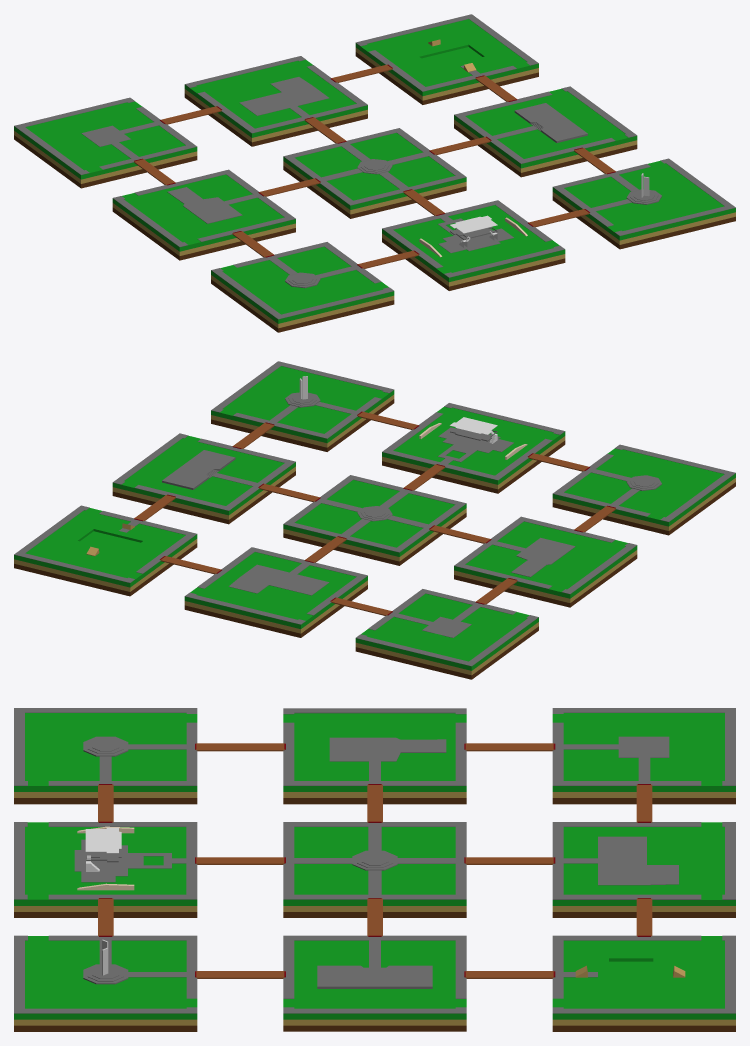
Rendered from Ferriel-Map-HitBox.glb.
3 renders of one model, top to bottom at view 1: azimuth 30°, elevation 25°; view 2: azimuth 150°, elevation 25°; view 3: azimuth 270°, elevation 25°, orthographic. The views are drawn at different scales.
Parts seen in each view (by area): view 1: Plane.029, Plane.036, Plane.035, Plane.034, Plane.001, Plane.014, Plane.005, Plane.016, Plane.009, Plane.017, Plane.010, Cube.021 (+16 smaller); view 2: Plane.029, Plane.036, Plane.034, Plane.035, Plane.001, Plane.014, Plane.016, Plane.005, Plane.009, Plane.017, Plane.010, Cube.021 (+16 smaller); view 3: Plane.029, Plane.035, Plane.036, Plane.034, Plane.001, Plane.014, Plane.005, Plane.009, Plane.016, Plane.017, Plane.010, Cube.021 (+21 smaller).
Boxes of the visible parts, x1,y1,x2,y2 form: Plane.029: (355, 19, 538, 104); Plane.036: (211, 246, 394, 332); Plane.035: (552, 160, 735, 249); Plane.034: (14, 101, 197, 188); Plane.001: (283, 133, 466, 218); Plane.014: (112, 174, 295, 260); Plane.005: (454, 88, 637, 177); Plane.016: (184, 60, 367, 146); Plane.009: (382, 205, 565, 290); Plane.017: (185, 56, 367, 133); Plane.010: (382, 200, 564, 277); Cube.021: (283, 128, 466, 205); Plane.029: (14, 507, 197, 596); Plane.036: (552, 448, 735, 535); Plane.034: (355, 593, 538, 679); Plane.035: (211, 366, 394, 451); Plane.001: (283, 480, 466, 565); Plane.014: (454, 521, 637, 607); Plane.016: (184, 552, 367, 637); Plane.005: (112, 435, 295, 524); Plane.009: (382, 407, 565, 493); Plane.017: (184, 547, 367, 624); Plane.010: (382, 403, 564, 480); Cube.021: (283, 475, 466, 552); Plane.029: (552, 936, 735, 1031); Plane.035: (14, 936, 197, 1031); Plane.036: (14, 713, 197, 804); Plane.034: (552, 713, 735, 804); Plane.001: (283, 827, 466, 917); Plane.014: (283, 713, 466, 804); Plane.005: (283, 940, 466, 1031); Plane.009: (14, 822, 197, 917); Plane.016: (552, 822, 735, 917); Plane.017: (552, 822, 735, 899); Plane.010: (14, 822, 197, 899); Cube.021: (283, 822, 466, 899).
Size of what is drawn, in the model's own units: 131 by 10.2 by 131.
